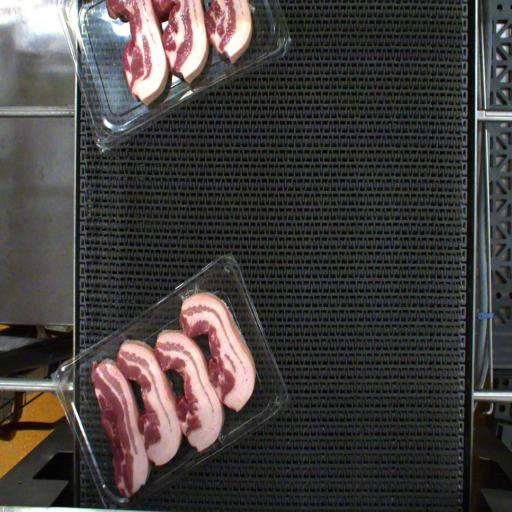packaging-error: (173, 278, 209, 305)
